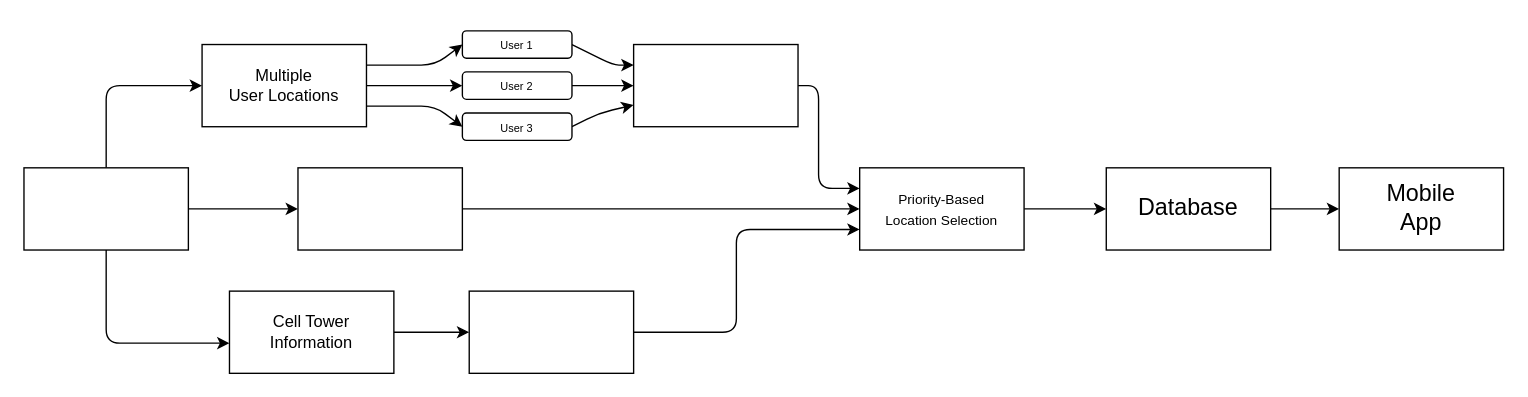
Some shapes in this 1528 by 397 pixel diagram are drawn without their labels. The shapes that lost their labels are listed below. From the top down, each one's centre as x and y in pixels, then its label:
pixel 715 85: Multi-Source Location Processing
pixel 105 208: Location Sources
pixel 379 208: GPS Module Data
pixel 551 331: Cellular Location Mapping using Location APIs
